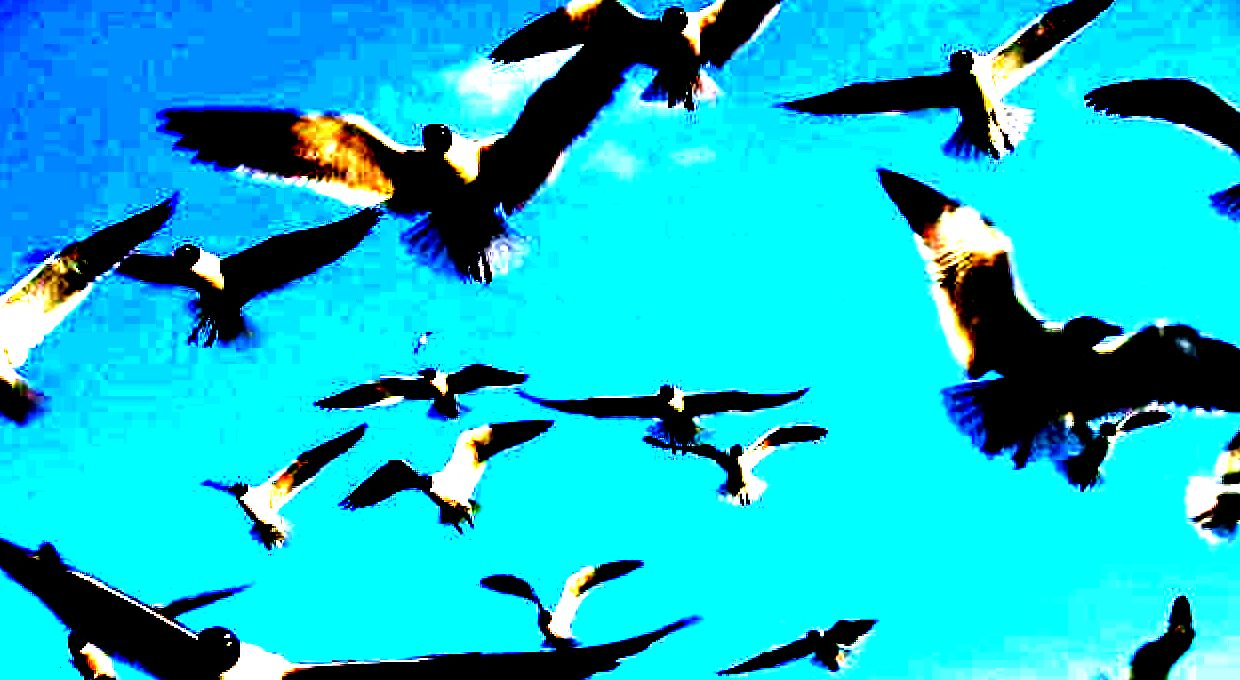Bird: (141, 41, 627, 292), (853, 163, 1239, 460), (2, 525, 703, 677), (771, 4, 1110, 166), (19, 208, 388, 348), (4, 184, 185, 433), (476, 0, 778, 123), (28, 534, 253, 676), (332, 414, 557, 544), (511, 376, 810, 462), (1079, 68, 1240, 219), (197, 416, 368, 554), (467, 553, 644, 645), (661, 421, 831, 513), (307, 359, 529, 421), (709, 606, 881, 673), (1057, 402, 1173, 492)
